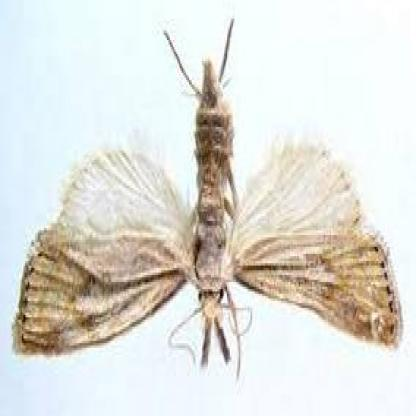stem-borer: (11, 13, 404, 388)
